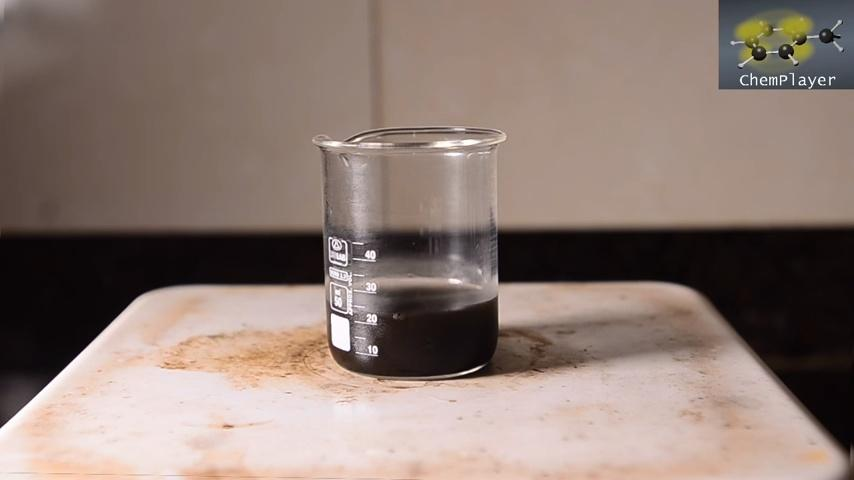Beaker: (305, 125, 505, 379)
